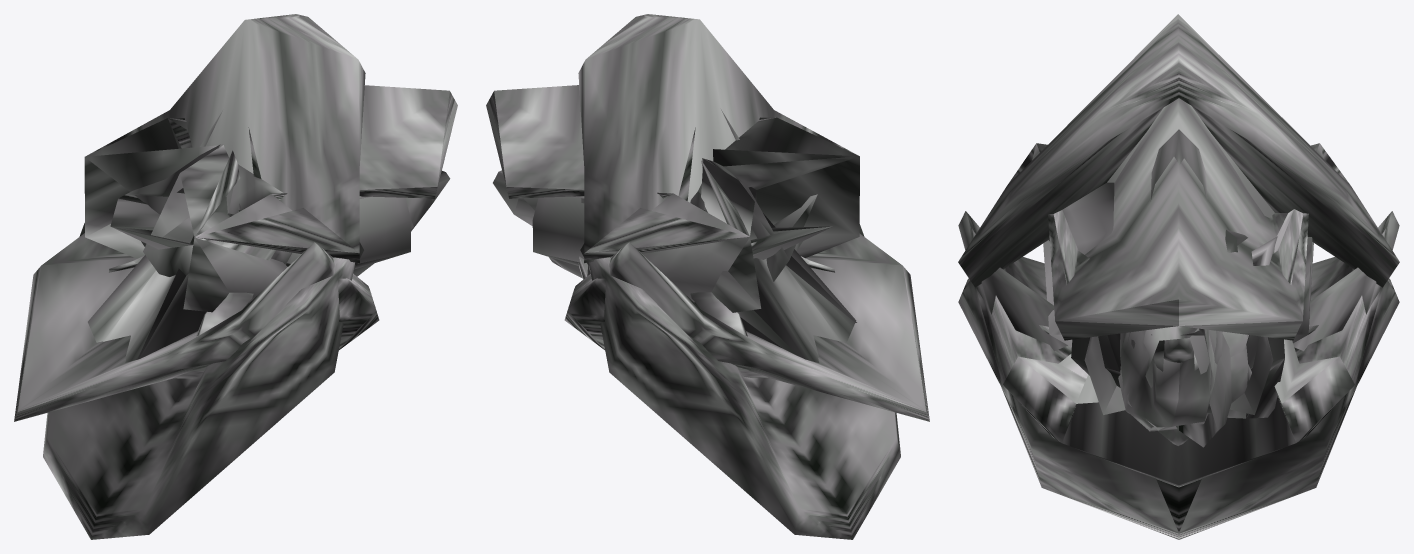
Rendered from CHAR_LITTLEROCKBADGER_BINDPOSE.fbx.
The picture shows the model from 3 angles, left to right: view 1: azimuth 30°, elevation 25°; view 2: azimuth 150°, elevation 25°; view 3: azimuth 270°, elevation 25°; orthographic projection. The views are drawn at different scales.
Visible parts, largest first — view 1: CHAR_LITTLEROCKBADGER_BINDPOSE; view 2: CHAR_LITTLEROCKBADGER_BINDPOSE; view 3: CHAR_LITTLEROCKBADGER_BINDPOSE.
Part boxes in pixels (x1=…): CHAR_LITTLEROCKBADGER_BINDPOSE: x1=14, y1=14, x2=457, y2=539; CHAR_LITTLEROCKBADGER_BINDPOSE: x1=486, y1=14, x2=929, y2=539; CHAR_LITTLEROCKBADGER_BINDPOSE: x1=958, y1=14, x2=1399, y2=539.
Bounding box in the file's own units: 6036 × 6275 × 4038.
Materials: 1 (1 with a texture image).
